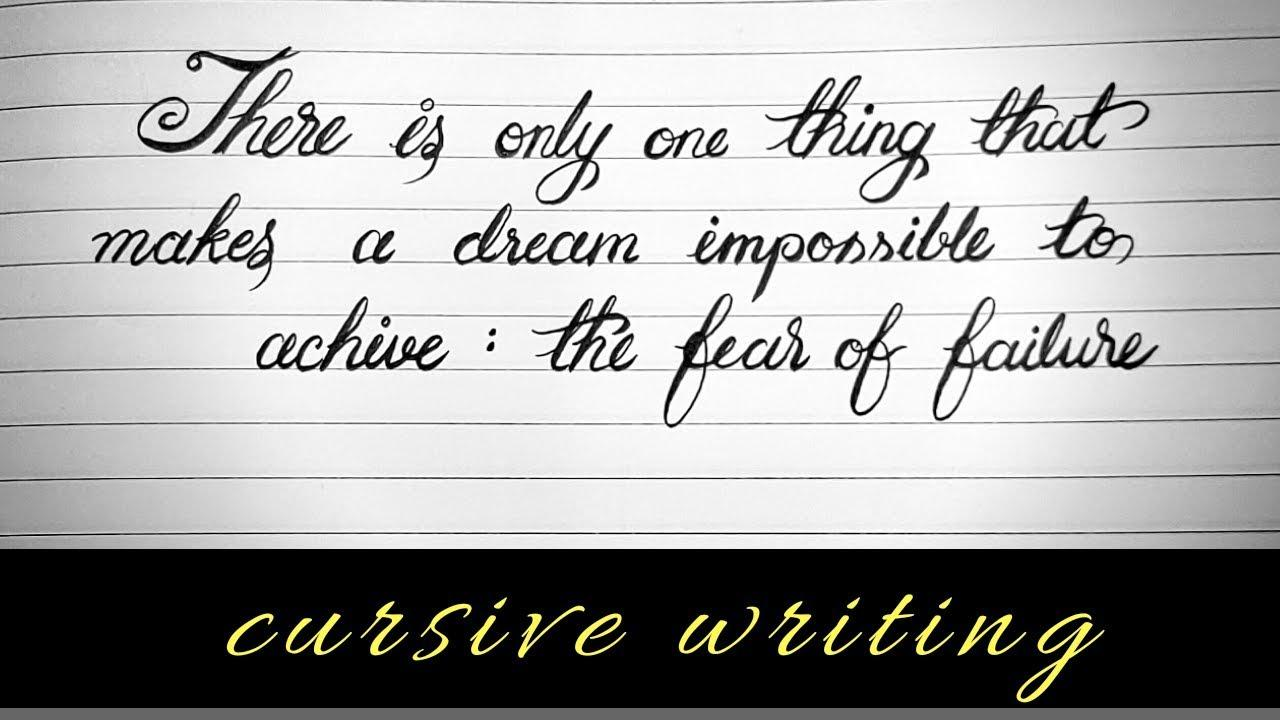text: (133, 42, 1155, 208), (252, 290, 1164, 433), (86, 190, 1136, 303), (222, 587, 1110, 712)
